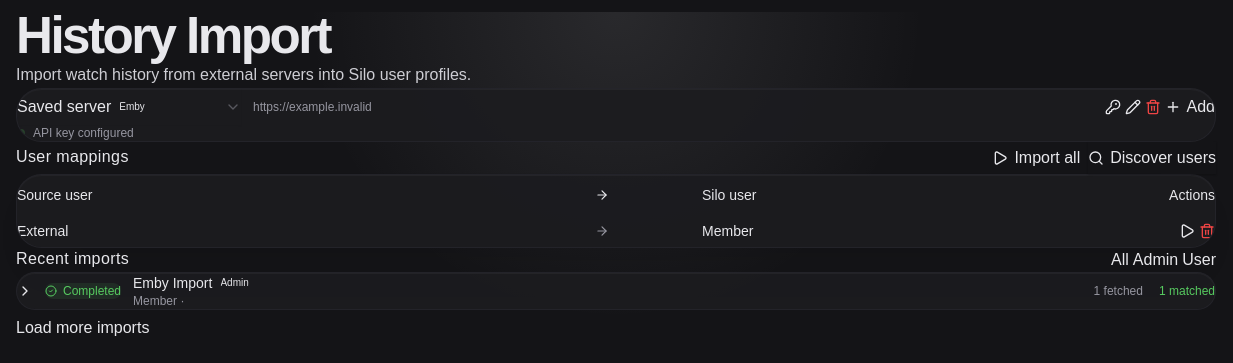
Test: admin history import editors › loads run history one page at a time after an explicit request
Click the button "Load more imports" at (83, 328), box [16, 310, 149, 346]
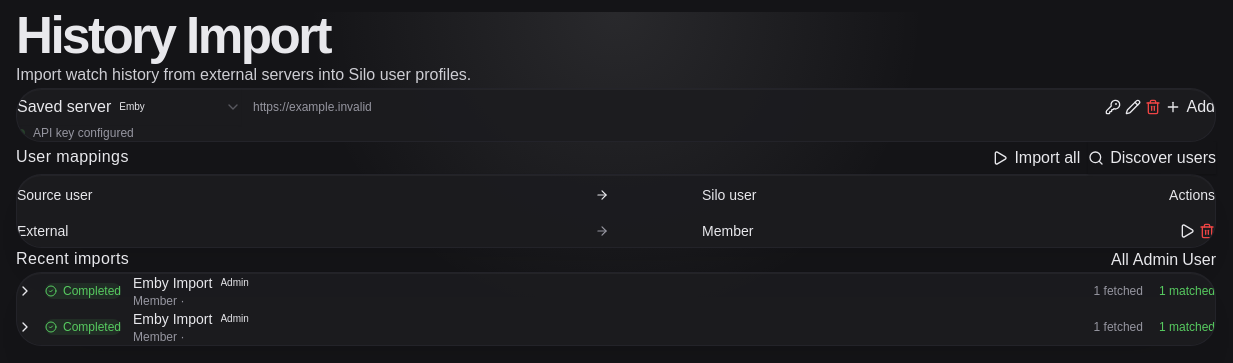
Expected: the button "Load more imports" is gone
